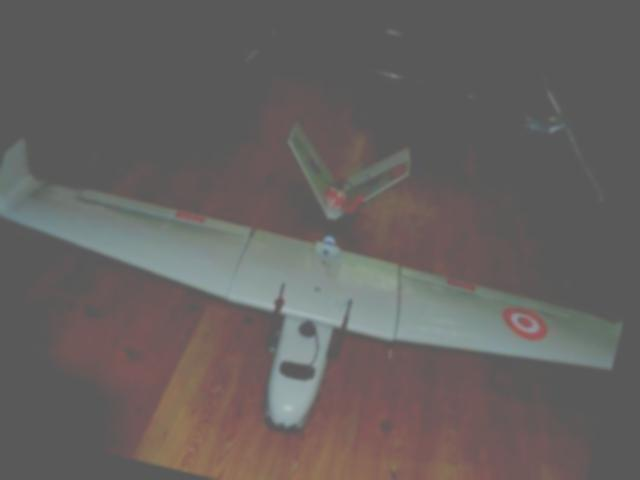iha: (0, 54, 638, 480)
